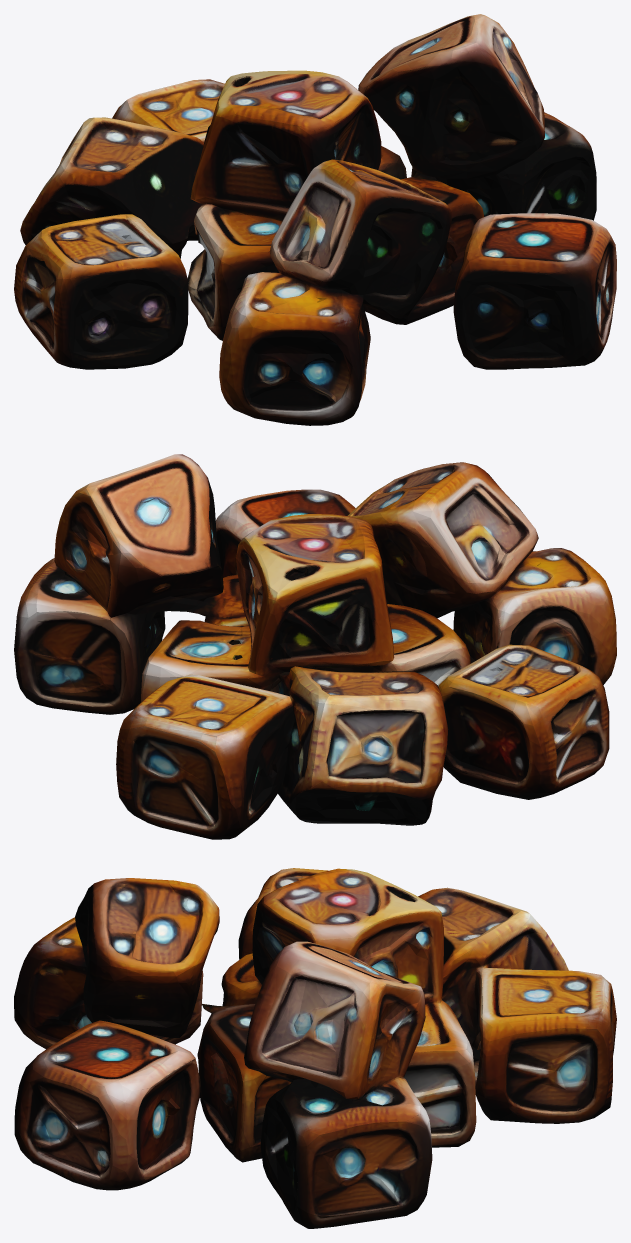
Rendered from wooden-dice-futuristic.jpeg.glb.
3 renders of one model, top to bottom at view 1: azimuth 30°, elevation 25°; view 2: azimuth 150°, elevation 25°; view 3: azimuth 270°, elevation 25°, orthographic.
Parts seen in each view (by area): view 1: world; view 2: world; view 3: world.
Boxes of the visible parts, x1,y1,x2,y2 form: world: [14, 14, 616, 425]; world: [14, 454, 616, 839]; world: [14, 868, 616, 1228].
Size of the model in its own units: 0.9996 by 0.4081 by 0.9465.
Materials: 1 (1 with a texture image).
